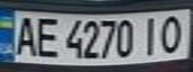0: (115, 16, 139, 58)
2: (78, 17, 100, 60)
4: (60, 16, 84, 60)
7: (97, 17, 118, 60)
A: (9, 14, 39, 57)
E: (33, 14, 60, 58)
I: (136, 15, 163, 56)
O: (157, 12, 190, 54)
